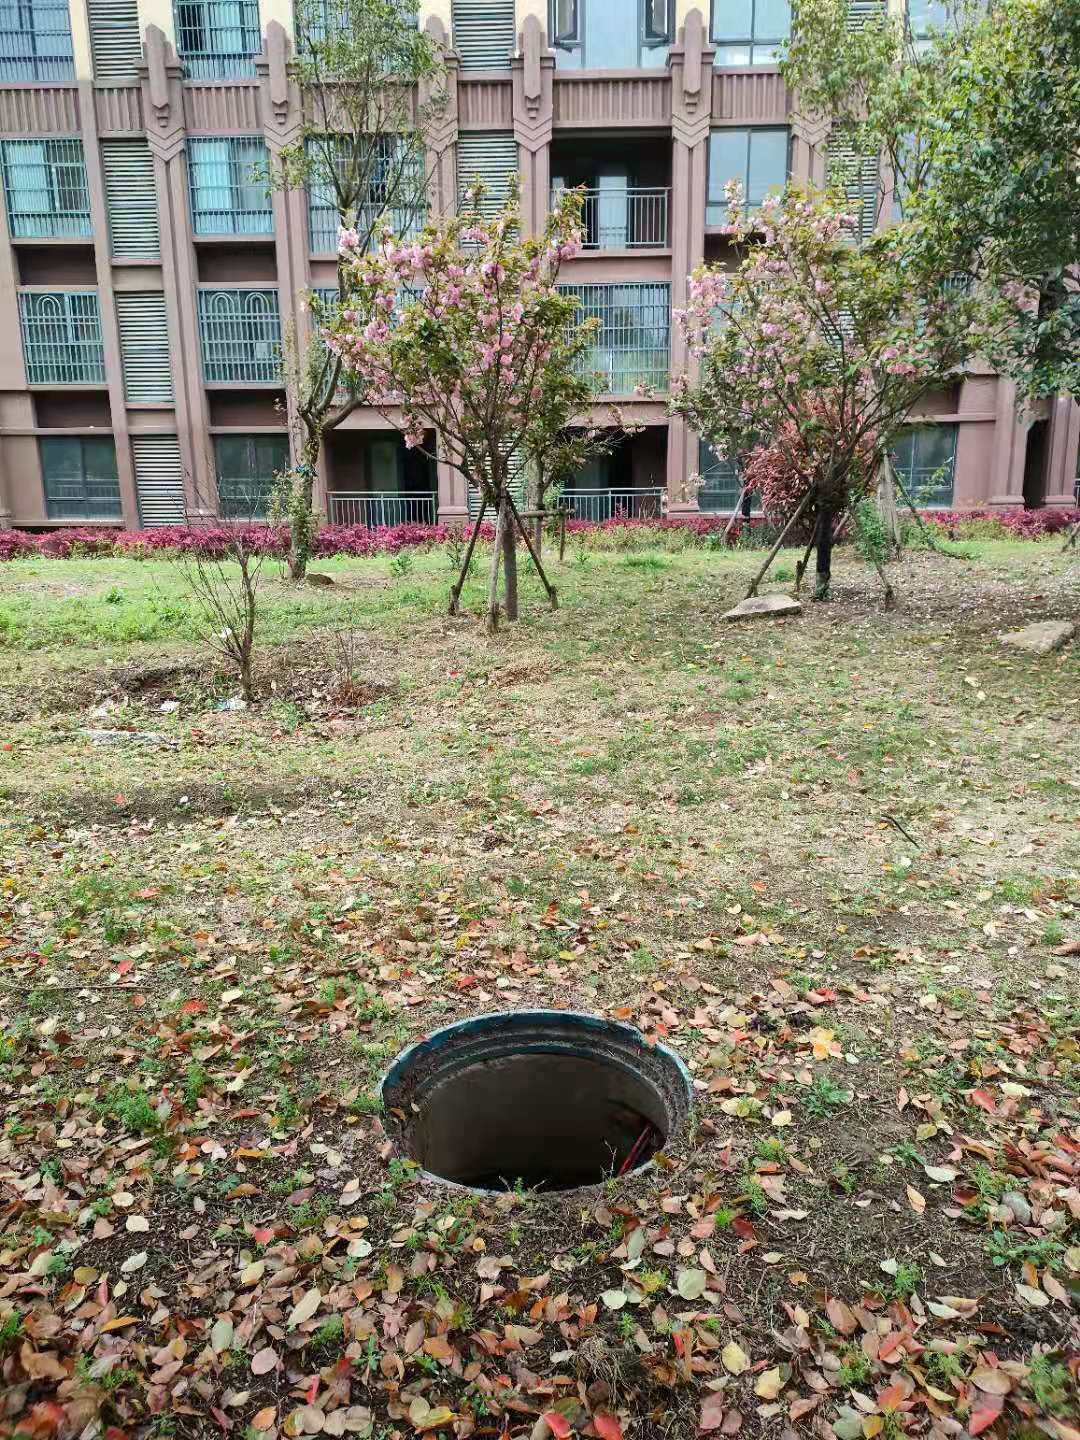lose: (381, 1011, 692, 1201)
